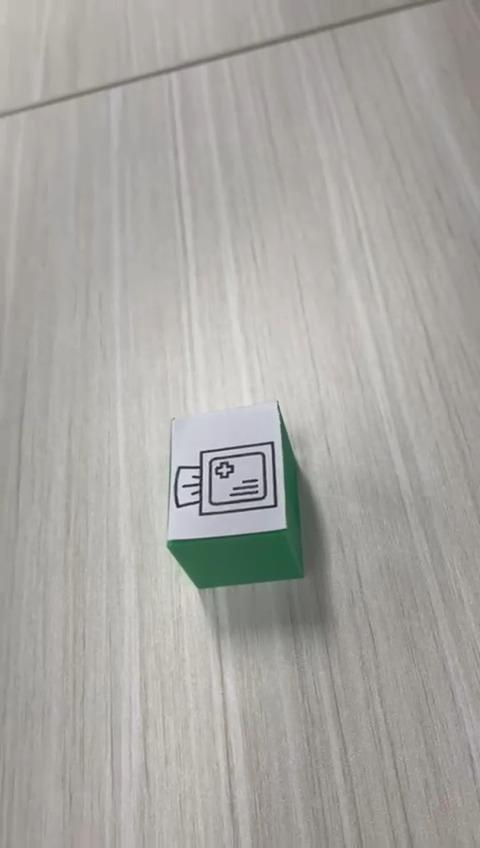Gauze: (164, 398, 305, 590)
